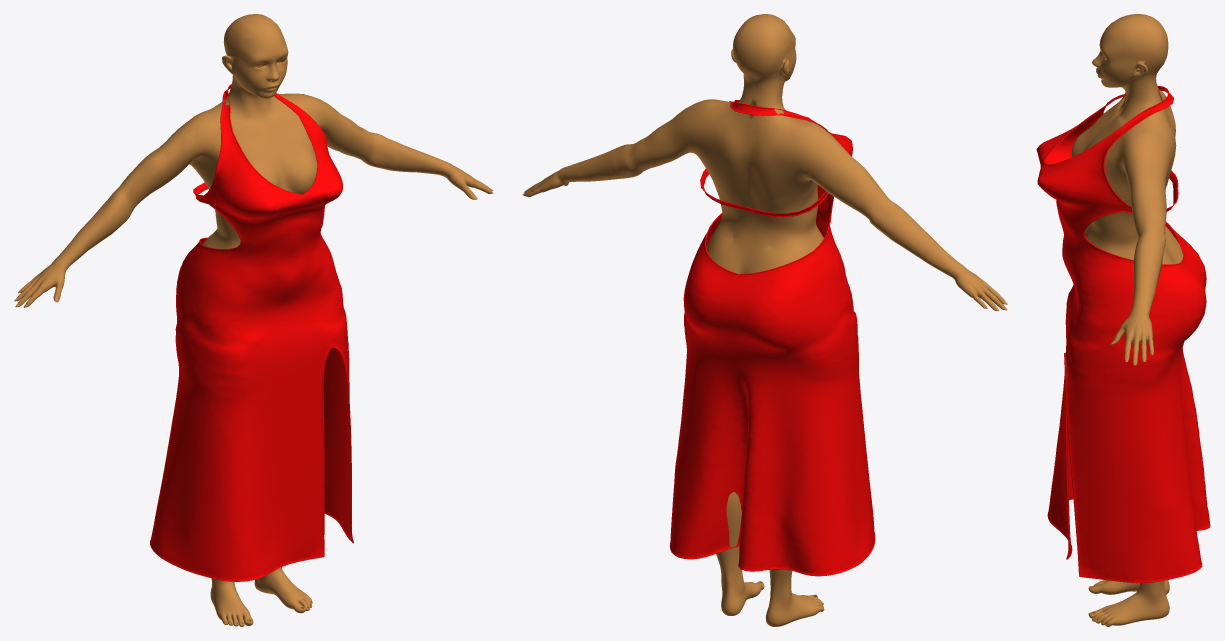
File: dress3.glb
The picture shows the model from 3 angles, left to right: view 1: azimuth 30°, elevation 25°; view 2: azimuth 150°, elevation 25°; view 3: azimuth 270°, elevation 25°; orthographic projection.
Parts seen in each view (by area): view 1: EveningDress, Body.003; view 2: EveningDress, Body.003; view 3: EveningDress, Body.003.
Part boxes in pixels (<box>): EveningDress: <box>150,84,353,581</box>; Body.003: <box>16,14,493,626</box>; EveningDress: <box>670,100,875,576</box>; Body.003: <box>523,14,1004,626</box>; EveningDress: <box>1036,86,1210,583</box>; Body.003: <box>1071,14,1183,626</box>.
Size of the model in its own units: 1.58 by 1.85 by 0.4948.
